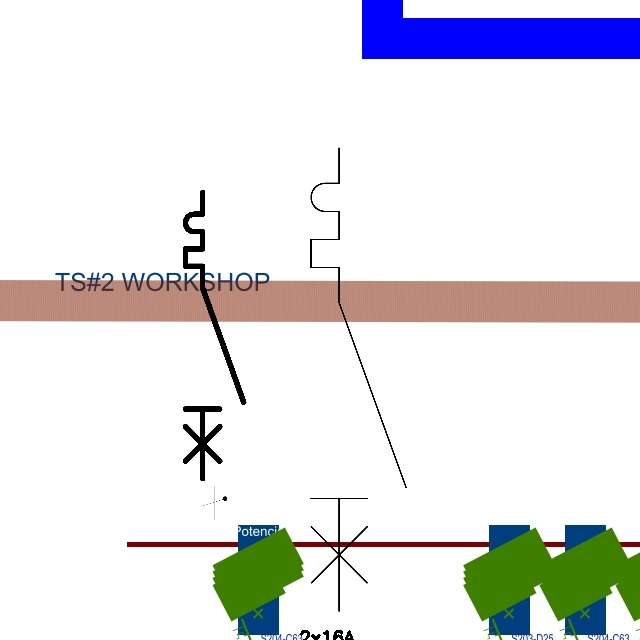interruptor_termomagnetico: (299, 136, 418, 623), (178, 185, 251, 486)
